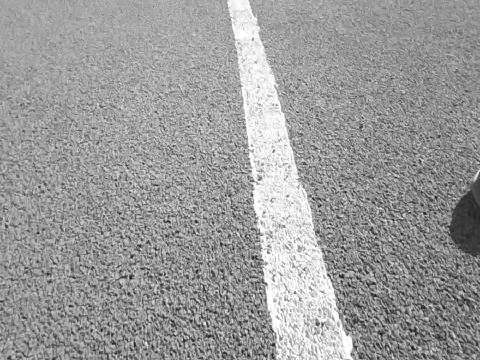Lines: (227, 0, 358, 360)
